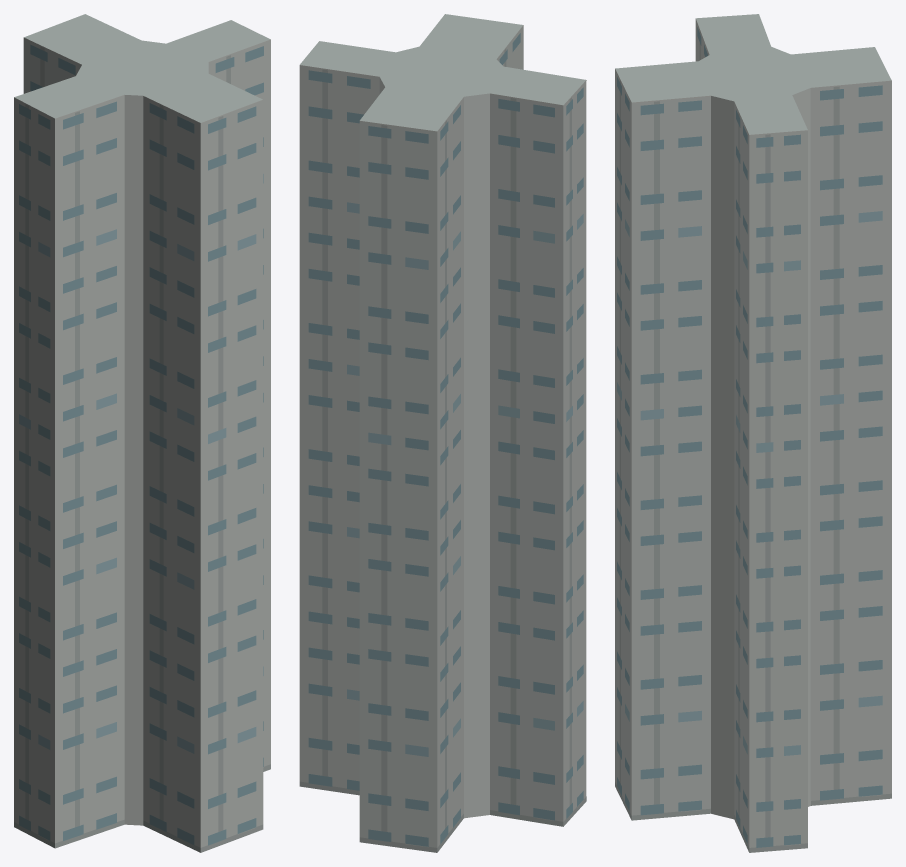
Rendered from residential-16630999-99e1-4629-a036-d470b97774b4.glb.
3 views of the same model, side by side, from view 1: azimuth 30°, elevation 25°; view 2: azimuth 150°, elevation 25°; view 3: azimuth 270°, elevation 25° (orthographic).
Visible parts, largest first — view 1: residential-16630999-99e1-4629-a036-d470b97774b4.tmp; view 2: residential-16630999-99e1-4629-a036-d470b97774b4.tmp; view 3: residential-16630999-99e1-4629-a036-d470b97774b4.tmp.
Boxes of the visible parts, bbox=[...] form: residential-16630999-99e1-4629-a036-d470b97774b4.tmp: bbox=[14, 14, 270, 852]; residential-16630999-99e1-4629-a036-d470b97774b4.tmp: bbox=[299, 14, 586, 852]; residential-16630999-99e1-4629-a036-d470b97774b4.tmp: bbox=[615, 14, 891, 852].
Bounding box in the file's own units: 54.9 × 152 × 53.11.
